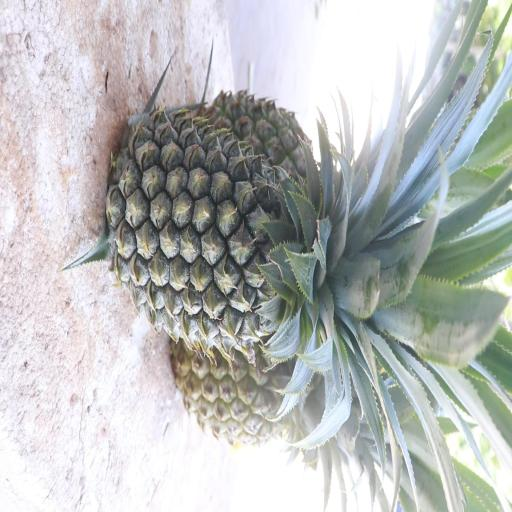------------------------------: (172, 333, 432, 482)
